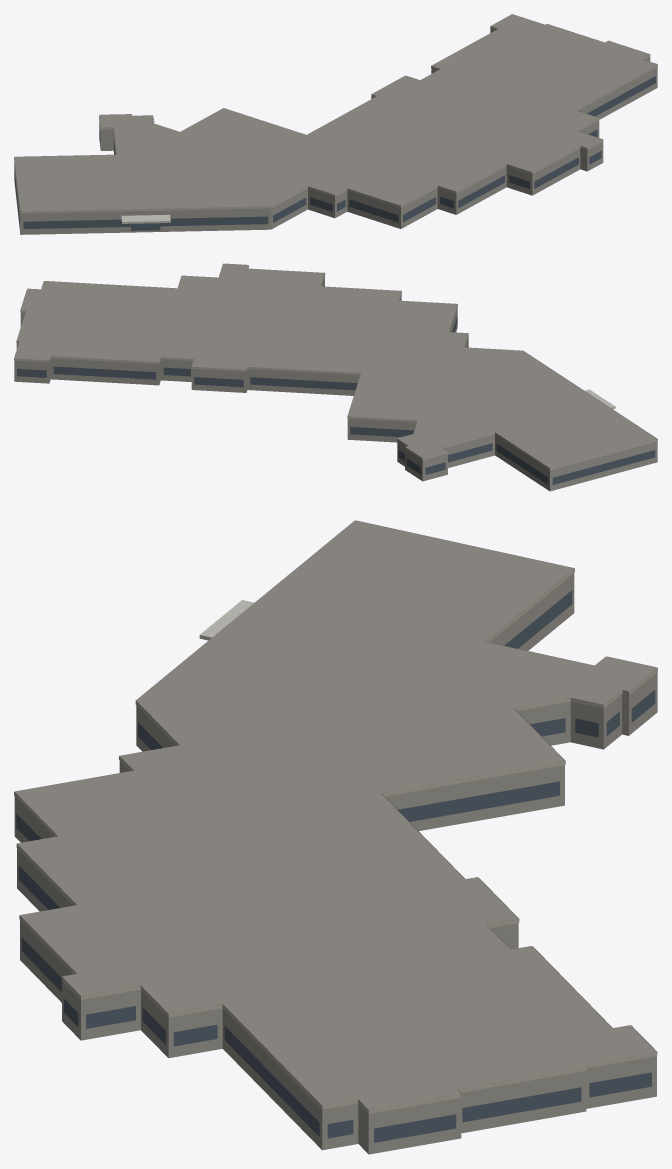
File: government-5735-m2-bo500066695.glb
The picture shows the model from 3 angles, top to bottom: view 1: azimuth 30°, elevation 25°; view 2: azimuth 150°, elevation 25°; view 3: azimuth 270°, elevation 25°; orthographic projection. The views are drawn at different scales.
Visible parts, largest first — view 1: government_5735_m2_bo500066695; view 2: government_5735_m2_bo500066695; view 3: government_5735_m2_bo500066695.
Boxes of the visible parts, box(x1,y1,x2,y2) form: government_5735_m2_bo500066695: box(14, 14, 657, 234); government_5735_m2_bo500066695: box(14, 263, 657, 491); government_5735_m2_bo500066695: box(14, 520, 657, 1154).
Size of the model in its own units: 150 by 5.3 by 69.21.
